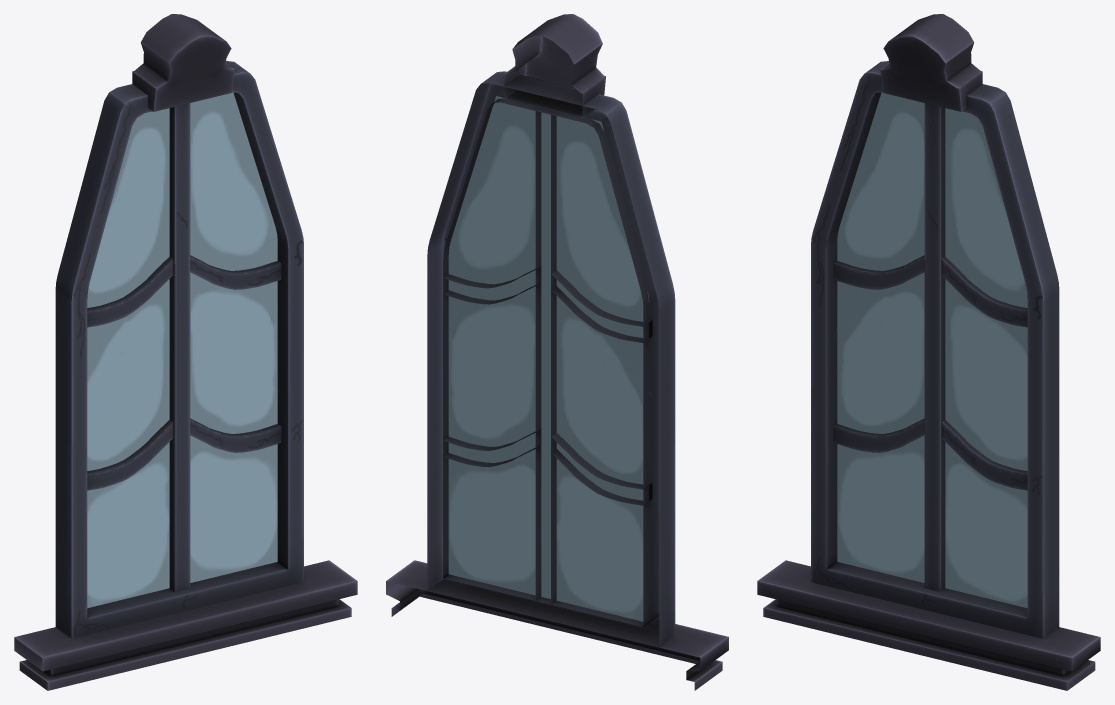
Rendered from Decoration_Window_002.fbx.
3 views of the same model, side by side, from view 1: azimuth 30°, elevation 25°; view 2: azimuth 150°, elevation 25°; view 3: azimuth 330°, elevation 25° (orthographic).
Visible parts, largest first — view 1: Decoration_Window_001; view 2: Decoration_Window_001; view 3: Decoration_Window_001.
Boxes of the visible parts, left/top/right/bottom form: Decoration_Window_001: left=14, top=14, right=357, bottom=690; Decoration_Window_001: left=386, top=14, right=728, bottom=690; Decoration_Window_001: left=757, top=14, right=1100, bottom=690.
Bounding box in the file's own units: 136 × 255 × 22.66.
